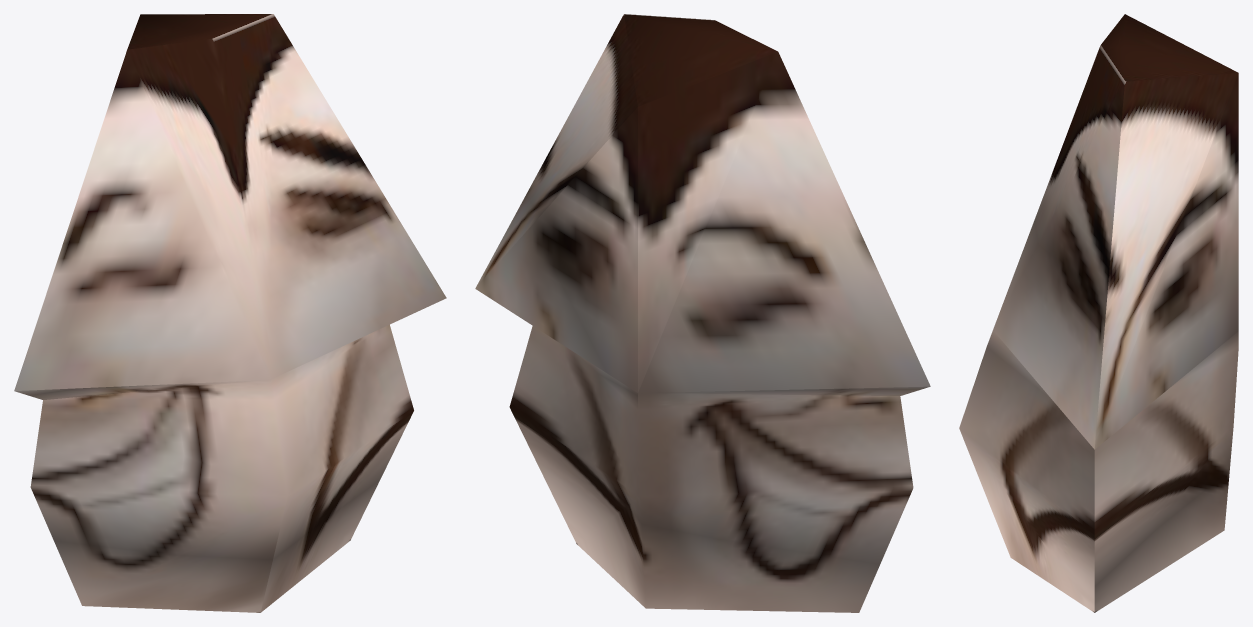
3 views of the same model, side by side, from view 1: azimuth 30°, elevation 25°; view 2: azimuth 150°, elevation 25°; view 3: azimuth 270°, elevation 25° (orthographic). The views are drawn at different scales.
Parts seen in each view (by area): view 1: twoface; view 2: twoface; view 3: twoface.
Boxes of the visible parts, <box> form: twoface: <box>14,14,446,612</box>; twoface: <box>475,14,930,612</box>; twoface: <box>959,14,1238,612</box>.
Size of the model in its own units: 1.77 by 2.11 by 1.05.
1 material, 1 textured.
